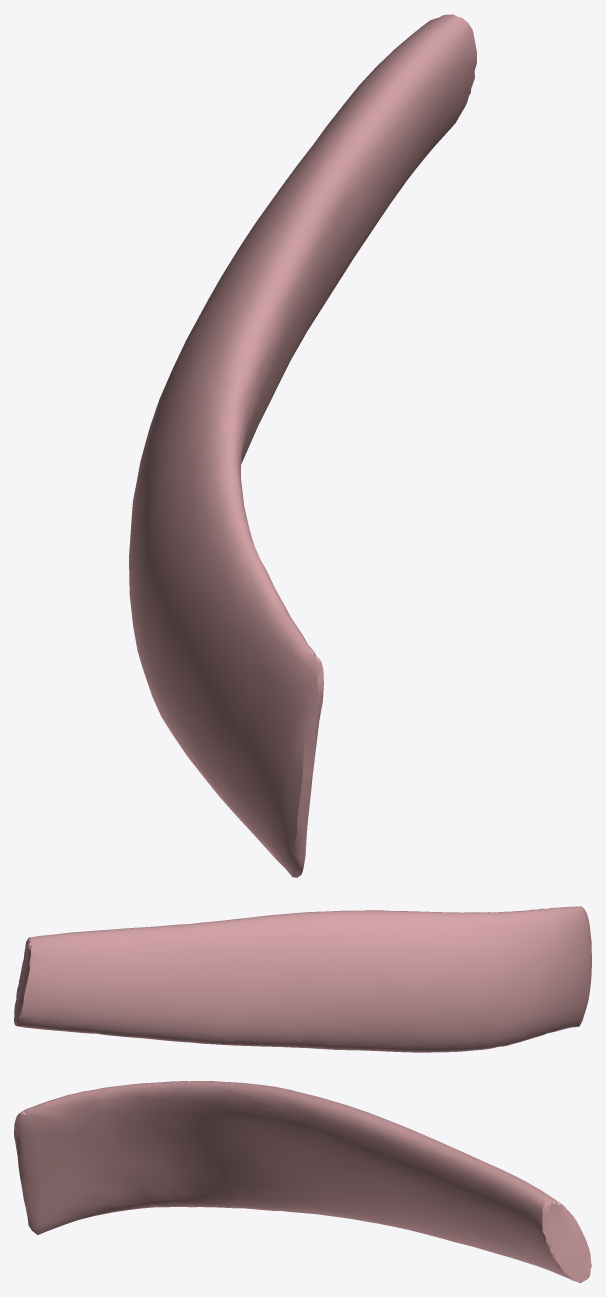
The model's file is fma319837_mm2223m.glb.
3 views of the same model, one above another, from view 1: azimuth 30°, elevation 25°; view 2: azimuth 150°, elevation 25°; view 3: azimuth 270°, elevation 25° (orthographic). The views are drawn at different scales.
Parts seen in each view (by area): view 1: FMA319837_MM2223M; view 2: FMA319837_MM2223M; view 3: FMA319837_MM2223M.
Boxes of the visible parts, x1,y1,x2,y2 form: FMA319837_MM2223M: [129, 14, 476, 877]; FMA319837_MM2223M: [14, 906, 591, 1052]; FMA319837_MM2223M: [14, 1081, 591, 1282].
Bounding box in the file's own units: 0.0207 × 0.0108 × 0.0279.
